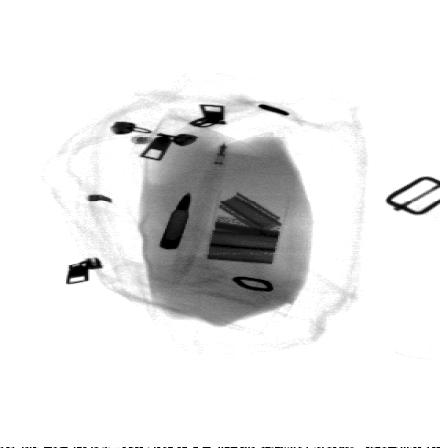Bullet: (156, 189, 193, 251)
